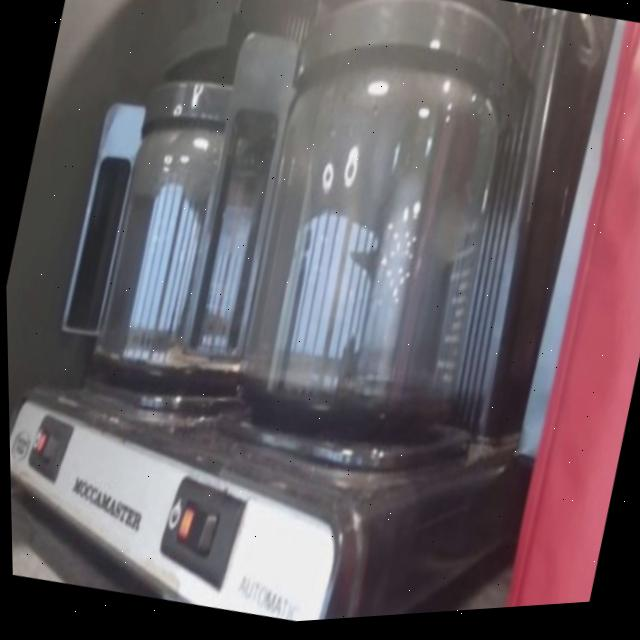nocoffee: (213, 0, 546, 470), (68, 40, 328, 426)
